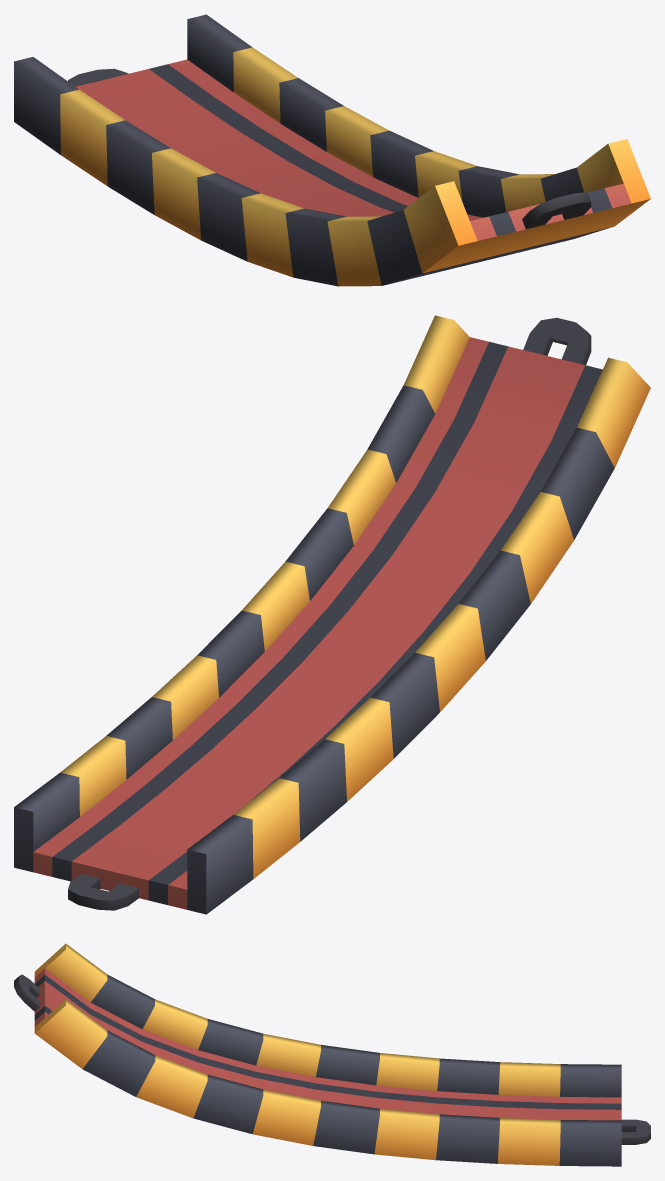
Rendered from track-road-narrow-straight-hill-beginning.fbx.
The picture shows the model from 3 angles, top to bottom: view 1: azimuth 30°, elevation 25°; view 2: azimuth 150°, elevation 25°; view 3: azimuth 270°, elevation 25°; orthographic projection. The views are drawn at different scales.
Visible parts, largest first — view 1: track-road-narrow-straight-hill-beginning; view 2: track-road-narrow-straight-hill-beginning; view 3: track-road-narrow-straight-hill-beginning.
Part boxes in pixels (x1=…): track-road-narrow-straight-hill-beginning: x1=14, y1=14, x2=650, y2=286; track-road-narrow-straight-hill-beginning: x1=14, y1=315, x2=650, y2=914; track-road-narrow-straight-hill-beginning: x1=14, y1=943, x2=650, y2=1166.
Size of the model in its own units: 100 by 121 by 434.
